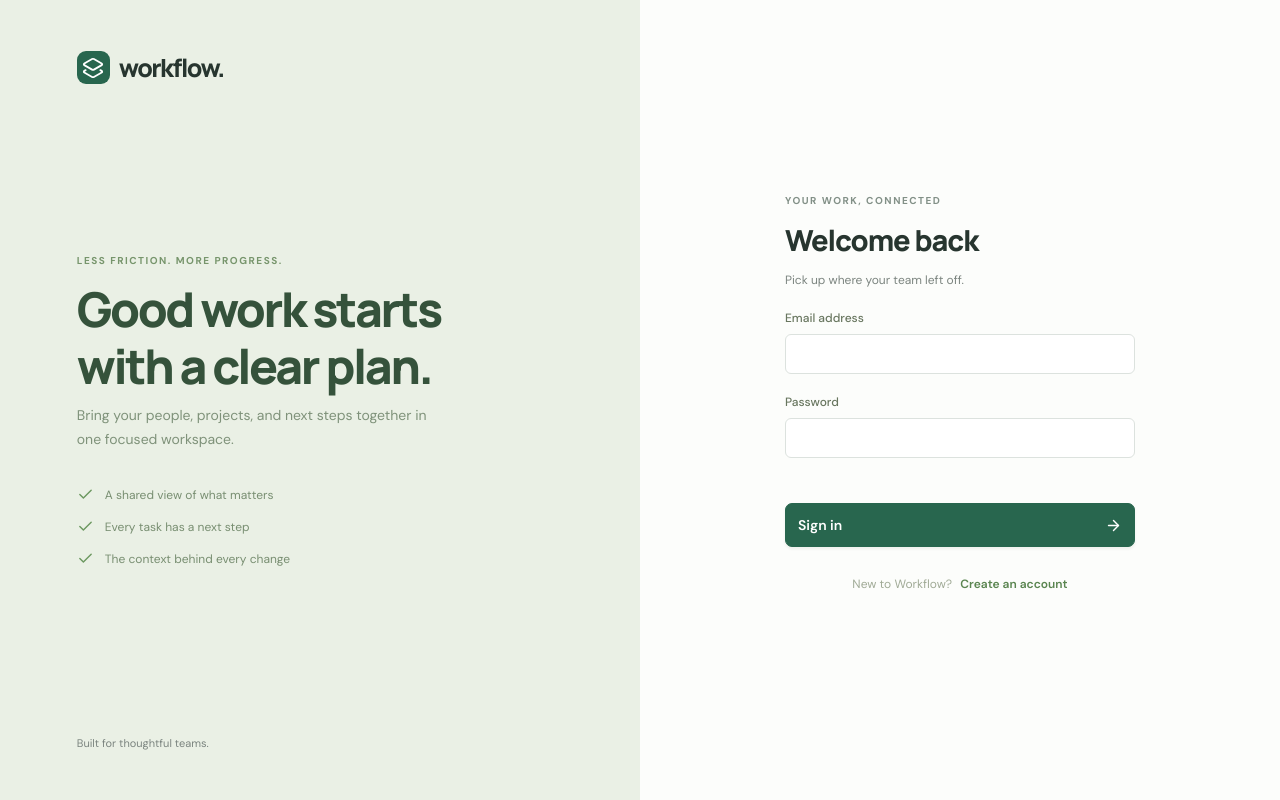
Scenario: authentication forms › displays a failed login and allows another attempt
This screenshot has width=1280, height=800.
Type "alok@example.com" into the field labelled "Email address" at (960, 354), box [785, 334, 1135, 374]
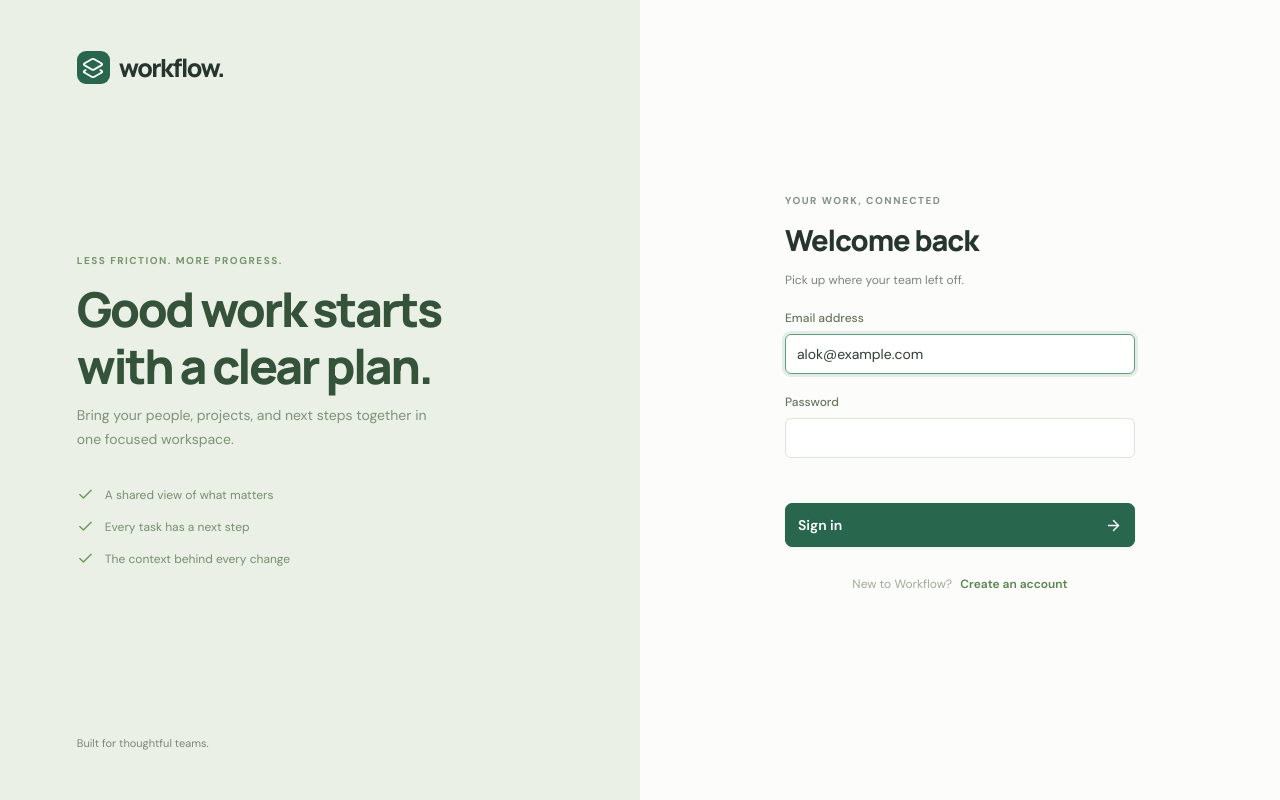
Type "wrong-password" into the password field labelled "Password" at (960, 438), box [785, 418, 1135, 458]
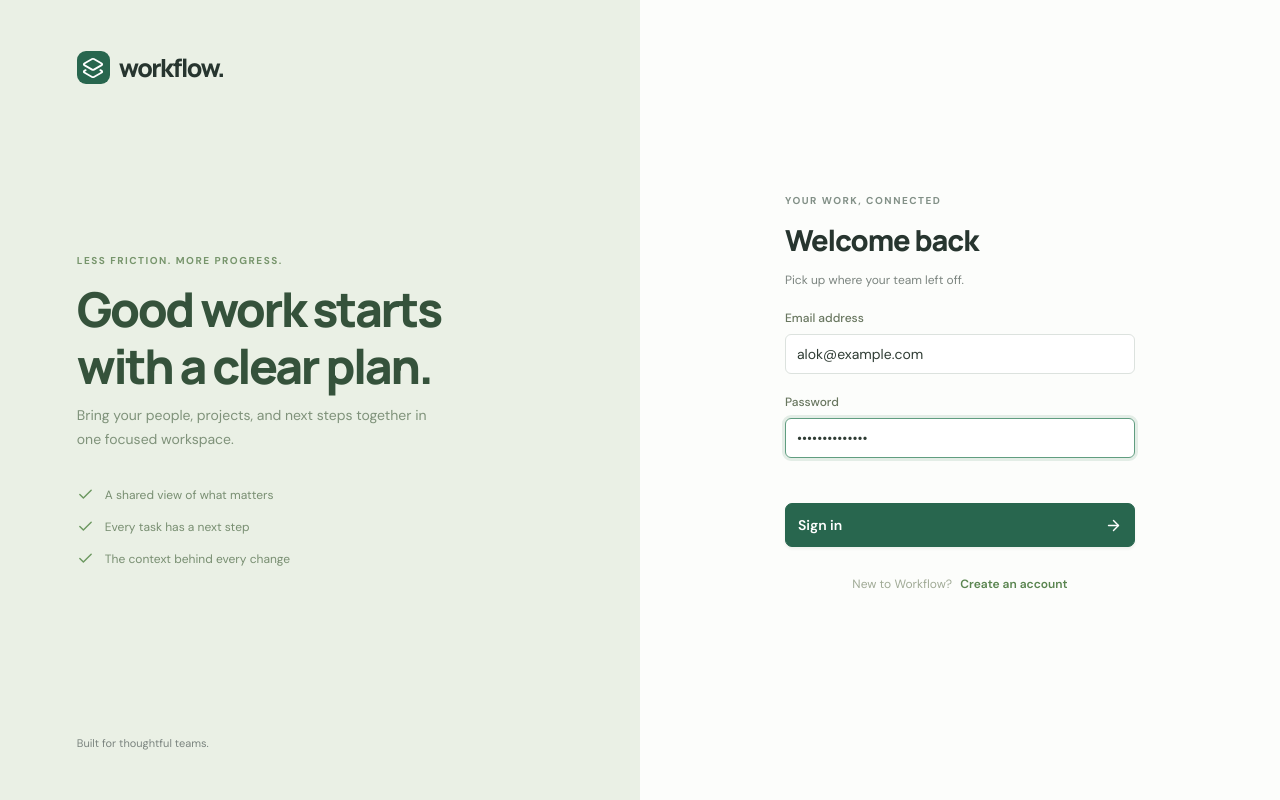
Click the button "Sign in" at (820, 525), box [785, 503, 1135, 547]
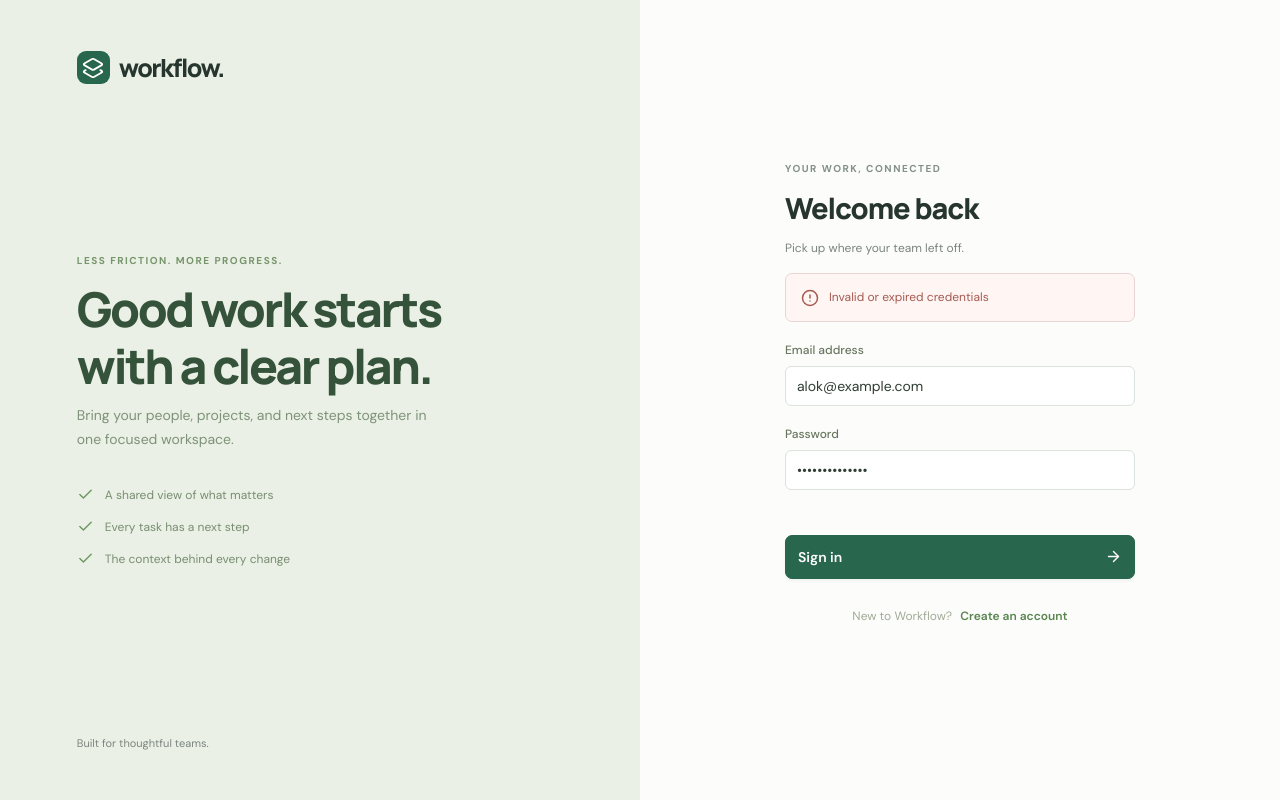
Check: the button "Sign in" is enabled, box [785, 535, 1135, 579]
Check: the message reads "Invalid or expired credentials", box [829, 289, 989, 305]
